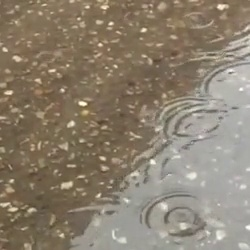drop: (158, 97, 225, 140), (141, 193, 205, 237), (202, 61, 250, 108), (182, 11, 213, 30), (139, 110, 160, 124), (35, 50, 56, 63)
